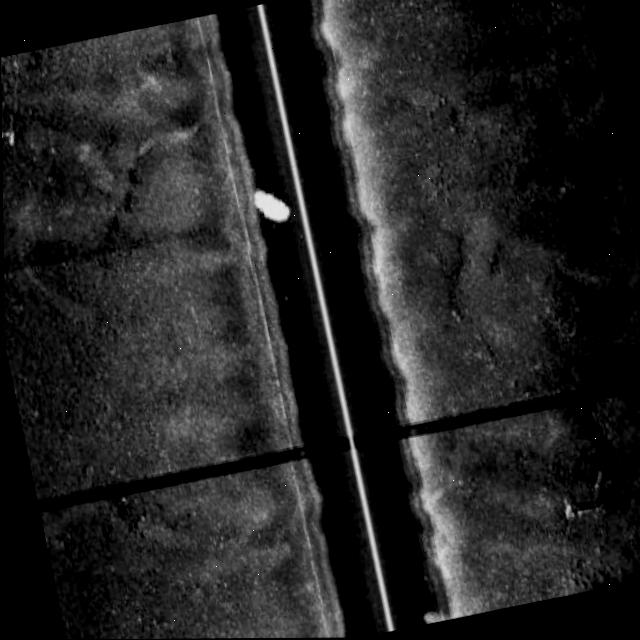mine: (582, 466, 610, 499), (552, 497, 583, 526), (1, 126, 21, 151)
